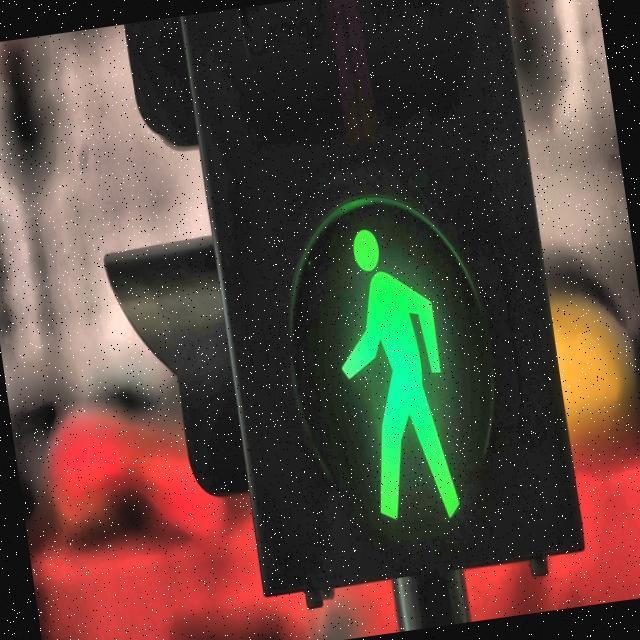green_light: (314, 213, 472, 539)
